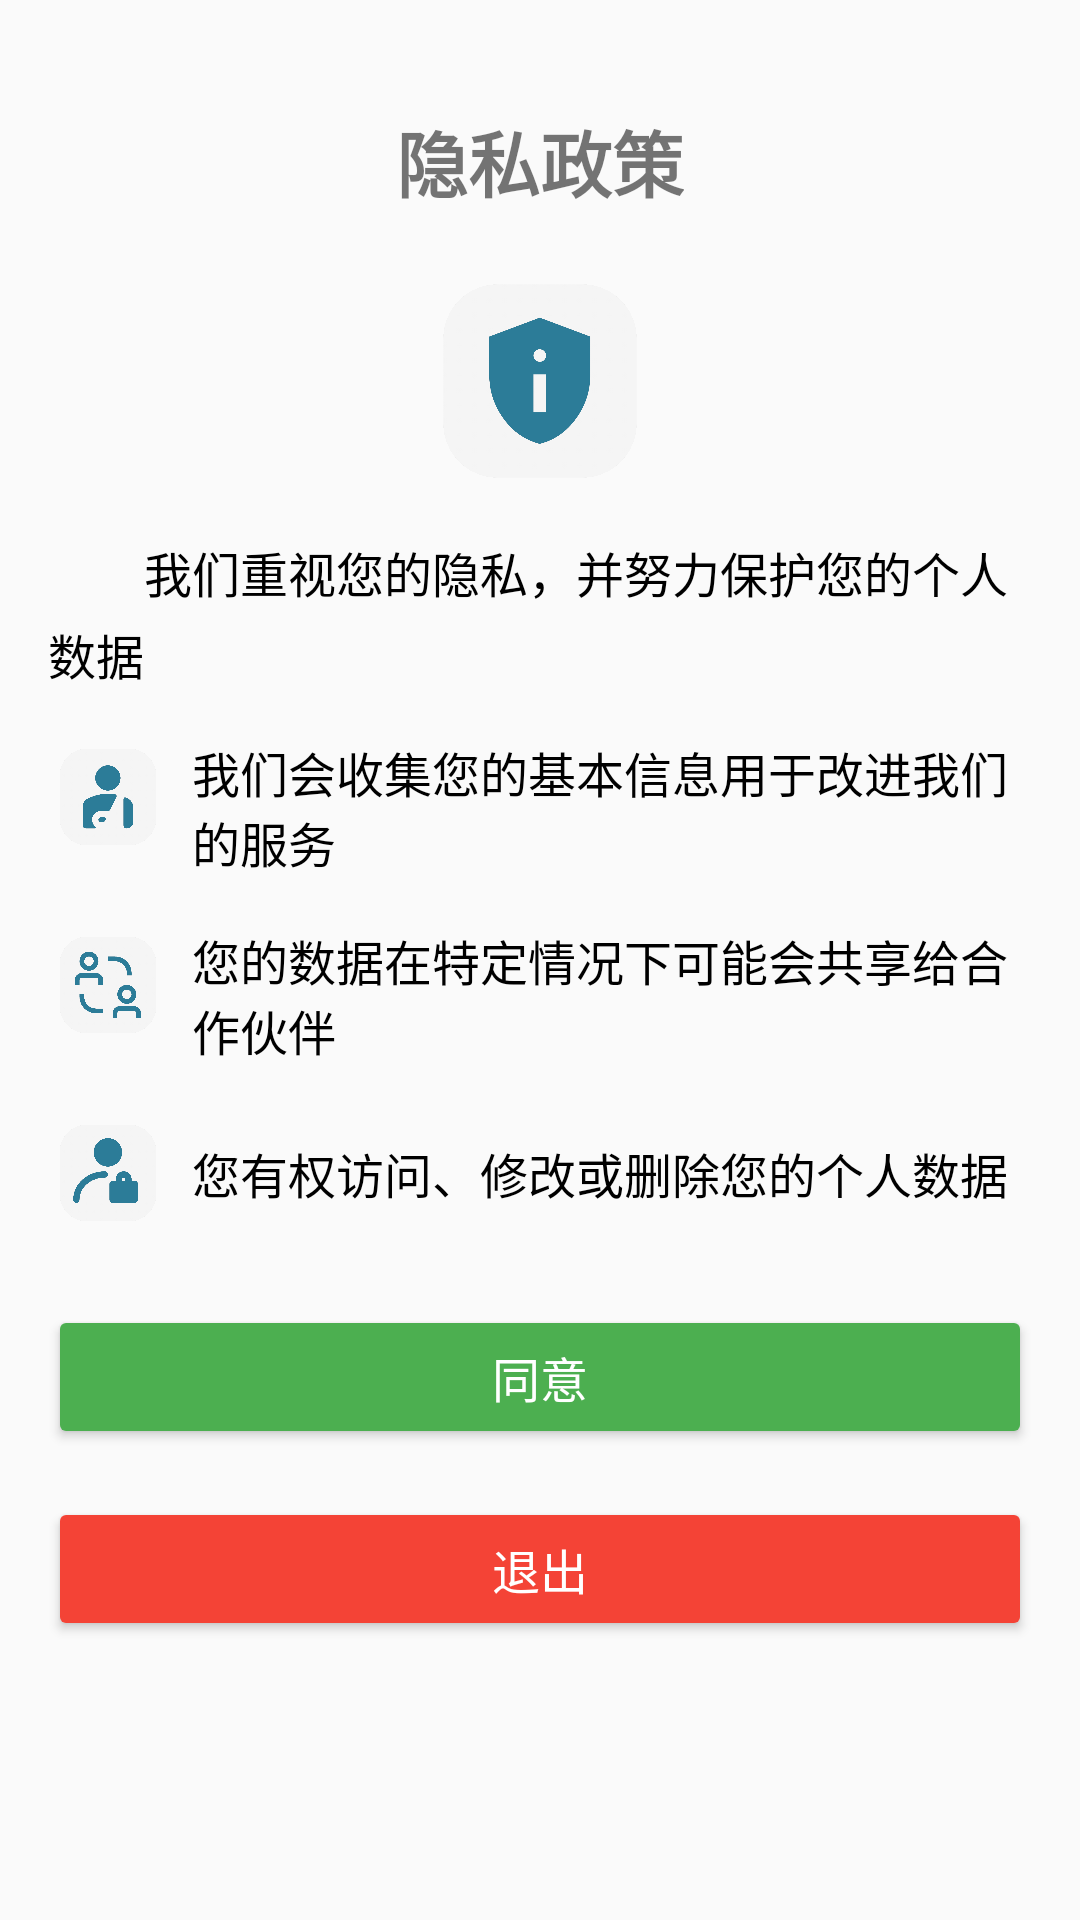

Screen size 1080px×1920px. Icon name, then its box in pixels as bbox=[x1, y1, x2, y2]:
collaborate: bbox=[75, 952, 141, 1018]
personal information: bbox=[83, 765, 133, 829]
personal privacy: bbox=[73, 1138, 138, 1203]
privacy: bbox=[489, 318, 590, 444]
